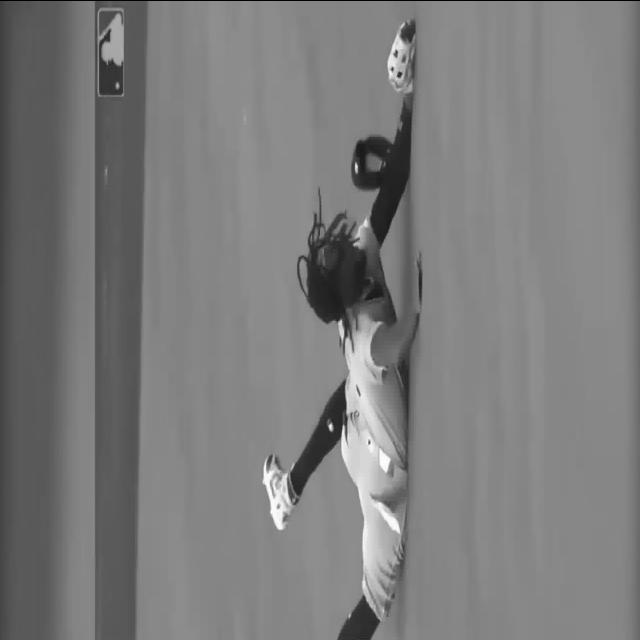baseball_glove: (388, 14, 419, 96)
shoe: (260, 451, 294, 528)
